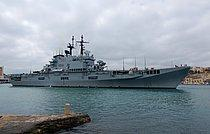MIL_Ship: (5, 33, 192, 89)
